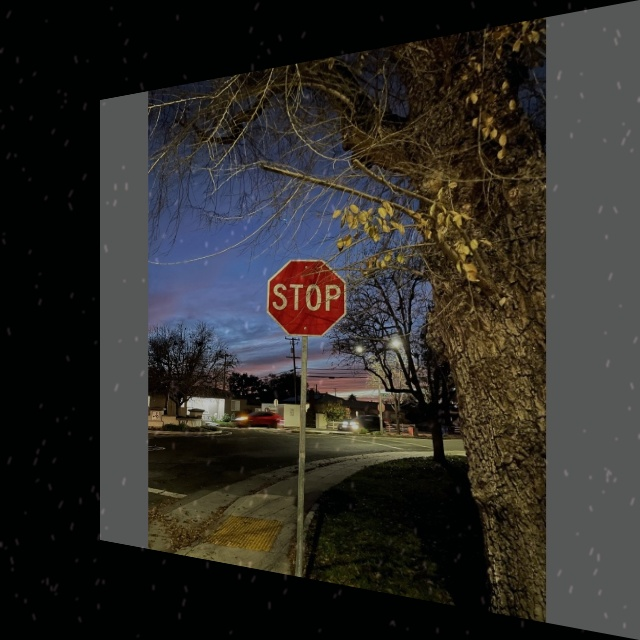Stop: (266, 258, 347, 337)
